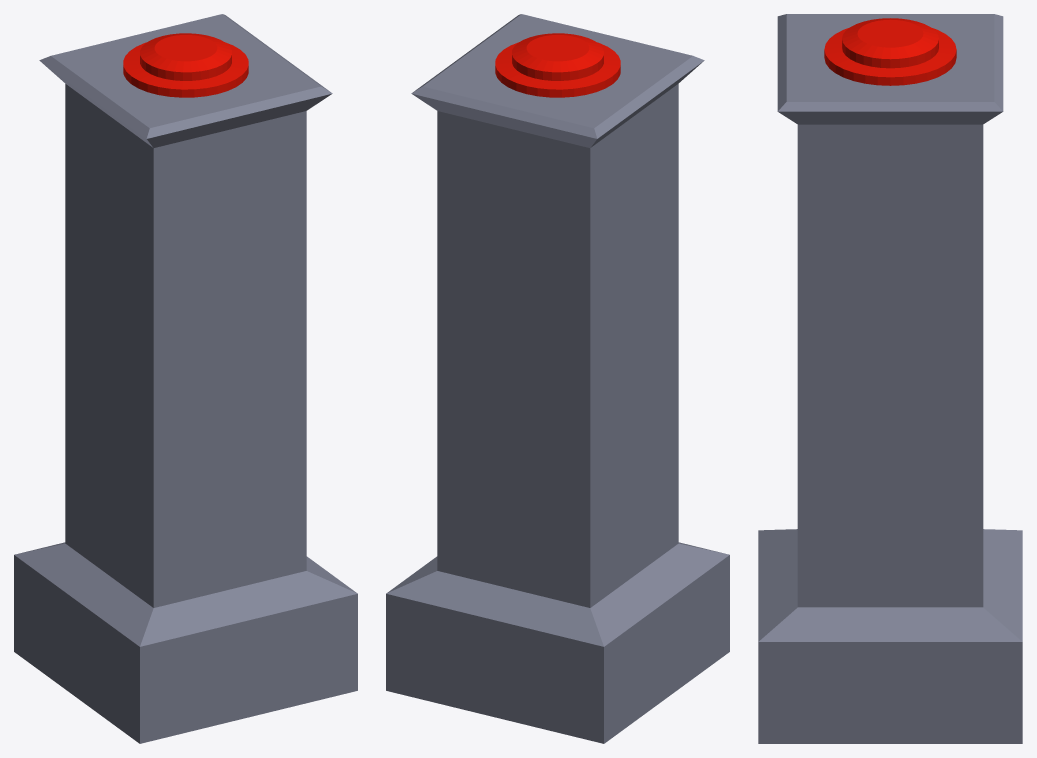
The model's file is button.gltf.
3 views of the same model, side by side, from view 1: azimuth 30°, elevation 25°; view 2: azimuth 150°, elevation 25°; view 3: azimuth 270°, elevation 25° (orthographic). The views are drawn at different scales.
Parts seen in each view (by area): view 1: Cube; view 2: Cube; view 3: Cube.
Part boxes in pixels (x1,y1,x2,y2): Cube: [14, 14, 357, 743]; Cube: [386, 14, 729, 743]; Cube: [758, 14, 1022, 743].
Size of the model in its own units: 4 by 10.92 by 4.
